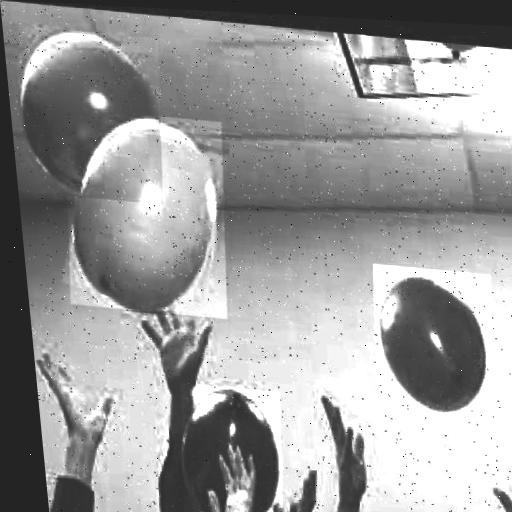balloon: (63, 108, 233, 313), (10, 25, 168, 199), (368, 268, 500, 413), (177, 384, 297, 512)
